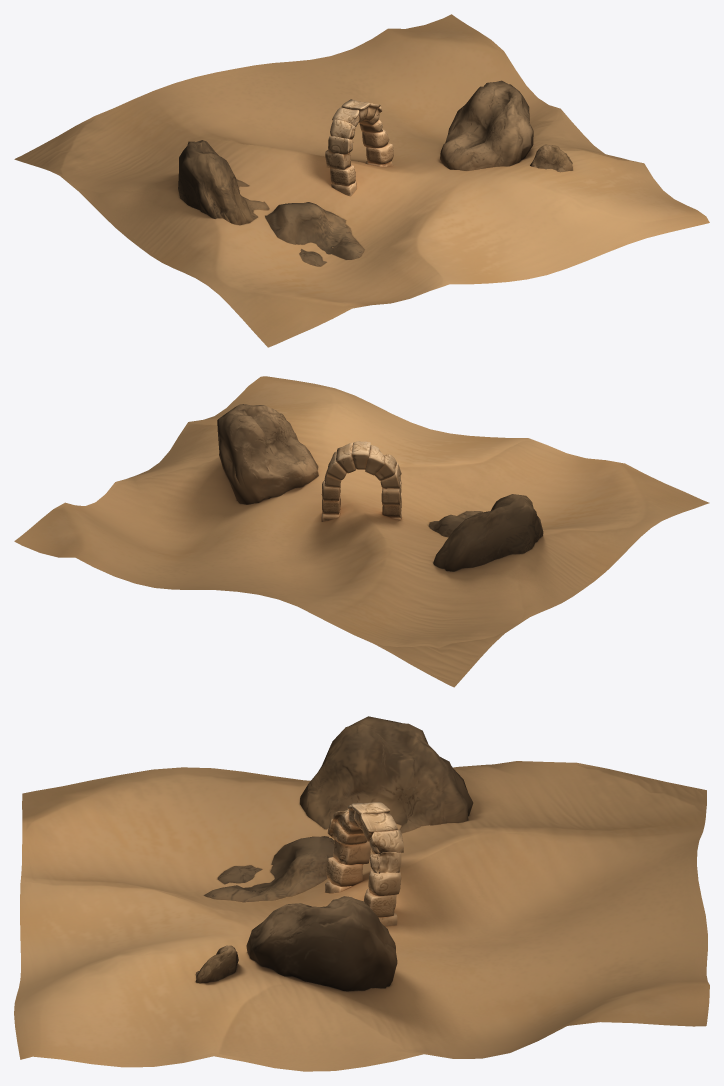
3 views of the same model, one above another, from view 1: azimuth 30°, elevation 25°; view 2: azimuth 150°, elevation 25°; view 3: azimuth 270°, elevation 25° (orthographic). The views are drawn at different scales.
Visible parts, largest first — view 1: desert; view 2: desert; view 3: desert.
Boxes of the visible parts, x1,y1,x2,y2 form: desert: (14, 14, 709, 347); desert: (14, 376, 709, 687); desert: (14, 716, 709, 1071).
Bounding box in the file's own units: 21.19 × 6.61 × 20.97.
